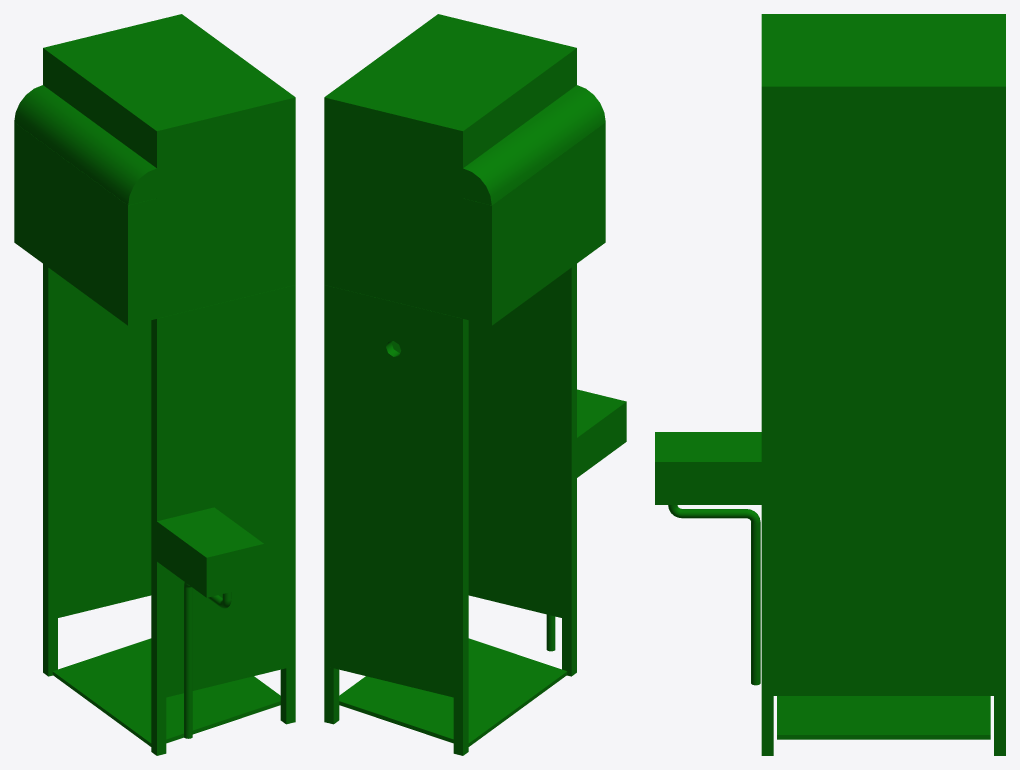
File: Image-1710907701930-2280941448848_76-SC54.fbx
The picture shows the model from 3 angles, left to right: view 1: azimuth 30°, elevation 25°; view 2: azimuth 150°, elevation 25°; view 3: azimuth 270°, elevation 25°; orthographic projection. The views are drawn at different scales.
Parts seen in each view (by area): view 1: BOX 4 of SUBEQUIPMENT /76-SC54/PRIM, BOX 1 of SUBEQUIPMENT /76-SC54/PRIM, BOX 3 of SUBEQUIPMENT /76-SC54/PRIM, BOX 2 of SUBEQUIPMENT /76-SC54/PRIM, BOX 10 of SUBEQUIPMENT /76-SC54/PRIM, RTORUS 1 of SUBEQUIPMENT /76-SC54/PRIM, BOX 11 of SUBEQUIPMENT /76-SC54/PRIM, CYLINDER 3 of SUBEQUIPMENT /76-SC54/PRIM, BOX 8 of SUBEQUIPMENT /76-SC54/PRIM, BOX 7 of SUBEQUIPMENT /76-SC54/PRIM, BOX 9 of SUBEQUIPMENT /76-SC54/PRIM; view 2: BOX 3 of SUBEQUIPMENT /76-SC54/PRIM, BOX 1 of SUBEQUIPMENT /76-SC54/PRIM, BOX 4 of SUBEQUIPMENT /76-SC54/PRIM, BOX 2 of SUBEQUIPMENT /76-SC54/PRIM, BOX 10 of SUBEQUIPMENT /76-SC54/PRIM, RTORUS 1 of SUBEQUIPMENT /76-SC54/PRIM, BOX 11 of SUBEQUIPMENT /76-SC54/PRIM, BOX 9 of SUBEQUIPMENT /76-SC54/PRIM, BOX 6 of SUBEQUIPMENT /76-SC54/PRIM, BOX 8 of SUBEQUIPMENT /76-SC54/PRIM; view 3: BOX 5 of SUBEQUIPMENT /76-SC54/PRIM, BOX 1 of SUBEQUIPMENT /76-SC54/PRIM, BOX 10 of SUBEQUIPMENT /76-SC54/PRIM, BOX 11 of SUBEQUIPMENT /76-SC54/PRIM, BOX 4 of SUBEQUIPMENT /76-SC54/PRIM, BOX 3 of SUBEQUIPMENT /76-SC54/PRIM, CYLINDER 3 of SUBEQUIPMENT /76-SC54/PRIM, BOX 7 of SUBEQUIPMENT /76-SC54/PRIM, BOX 6 of SUBEQUIPMENT /76-SC54/PRIM, CYLINDER 2 of SUBEQUIPMENT /76-SC54/PRIM.
Boxes of the visible parts, bbox=[...] form: BOX 4 of SUBEQUIPMENT /76-SC54/PRIM: bbox=[151, 285, 295, 699]; BOX 1 of SUBEQUIPMENT /76-SC54/PRIM: bbox=[43, 14, 295, 318]; BOX 3 of SUBEQUIPMENT /76-SC54/PRIM: bbox=[43, 264, 151, 620]; BOX 2 of SUBEQUIPMENT /76-SC54/PRIM: bbox=[14, 122, 156, 325]; BOX 10 of SUBEQUIPMENT /76-SC54/PRIM: bbox=[52, 638, 280, 746]; RTORUS 1 of SUBEQUIPMENT /76-SC54/PRIM: bbox=[14, 85, 156, 205]; BOX 11 of SUBEQUIPMENT /76-SC54/PRIM: bbox=[157, 507, 263, 597]; CYLINDER 3 of SUBEQUIPMENT /76-SC54/PRIM: bbox=[184, 587, 192, 738]; BOX 8 of SUBEQUIPMENT /76-SC54/PRIM: bbox=[151, 696, 166, 755]; BOX 7 of SUBEQUIPMENT /76-SC54/PRIM: bbox=[280, 666, 295, 724]; BOX 9 of SUBEQUIPMENT /76-SC54/PRIM: bbox=[43, 617, 57, 676]; BOX 3 of SUBEQUIPMENT /76-SC54/PRIM: bbox=[324, 285, 468, 699]; BOX 1 of SUBEQUIPMENT /76-SC54/PRIM: bbox=[324, 14, 576, 318]; BOX 4 of SUBEQUIPMENT /76-SC54/PRIM: bbox=[468, 264, 576, 620]; BOX 2 of SUBEQUIPMENT /76-SC54/PRIM: bbox=[463, 122, 605, 325]; BOX 10 of SUBEQUIPMENT /76-SC54/PRIM: bbox=[339, 638, 567, 746]; RTORUS 1 of SUBEQUIPMENT /76-SC54/PRIM: bbox=[463, 85, 605, 205]; BOX 11 of SUBEQUIPMENT /76-SC54/PRIM: bbox=[577, 389, 626, 477]; BOX 9 of SUBEQUIPMENT /76-SC54/PRIM: bbox=[453, 696, 468, 755]; BOX 6 of SUBEQUIPMENT /76-SC54/PRIM: bbox=[324, 666, 339, 724]; BOX 8 of SUBEQUIPMENT /76-SC54/PRIM: bbox=[562, 617, 576, 676]; BOX 5 of SUBEQUIPMENT /76-SC54/PRIM: bbox=[773, 287, 993, 695]; BOX 1 of SUBEQUIPMENT /76-SC54/PRIM: bbox=[761, 14, 1005, 287]; BOX 10 of SUBEQUIPMENT /76-SC54/PRIM: bbox=[777, 696, 990, 739]; BOX 11 of SUBEQUIPMENT /76-SC54/PRIM: bbox=[655, 432, 761, 504]; BOX 4 of SUBEQUIPMENT /76-SC54/PRIM: bbox=[761, 287, 773, 695]; BOX 3 of SUBEQUIPMENT /76-SC54/PRIM: bbox=[994, 287, 1005, 695]; CYLINDER 3 of SUBEQUIPMENT /76-SC54/PRIM: bbox=[751, 522, 760, 685]; BOX 7 of SUBEQUIPMENT /76-SC54/PRIM: bbox=[761, 696, 773, 755]; BOX 6 of SUBEQUIPMENT /76-SC54/PRIM: bbox=[994, 696, 1005, 755]; CYLINDER 2 of SUBEQUIPMENT /76-SC54/PRIM: bbox=[682, 509, 746, 518].
Size of the model in its own units: 0.875 by 1.48 by 3.12.
